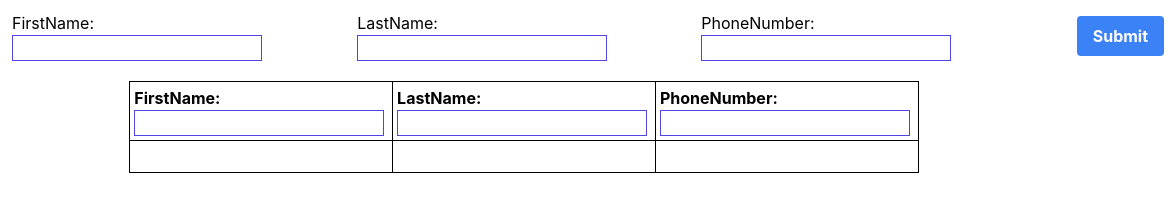
Test: (Components) ContactList › should add a new contact when click Submit
// Set Text to input and submit
Step 1. Type "F Name" into the 1st field with test id "input-FirstName" → [137, 48], box left=12, top=35, right=262, bottom=61
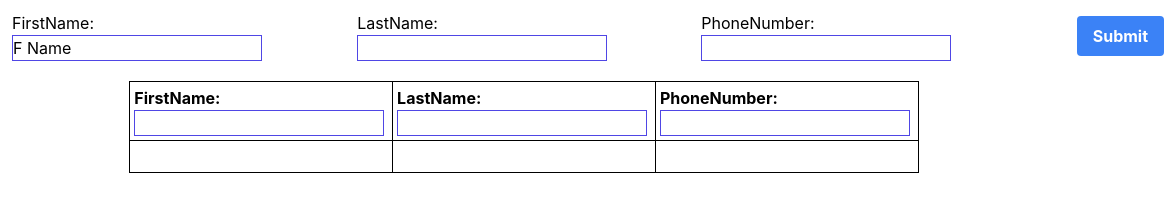
Step 2. Type "L Name" into the 1st field with test id "input-LastName" → [482, 48], box left=357, top=35, right=607, bottom=61
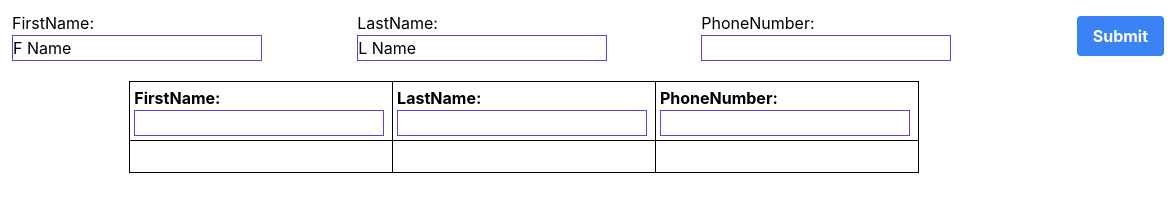
Step 3. Type "111111" into the 1st number field with test id "input-PhoneNumber" → [826, 48], box left=701, top=35, right=951, bottom=61
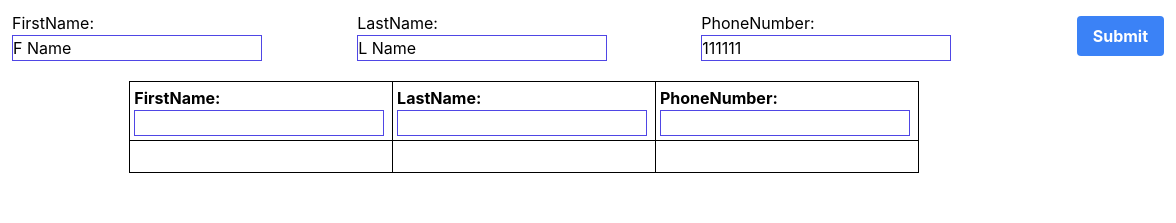
Step 4. Click the button with test id "button-submit" → [1120, 36], box left=1077, top=16, right=1164, bottom=56
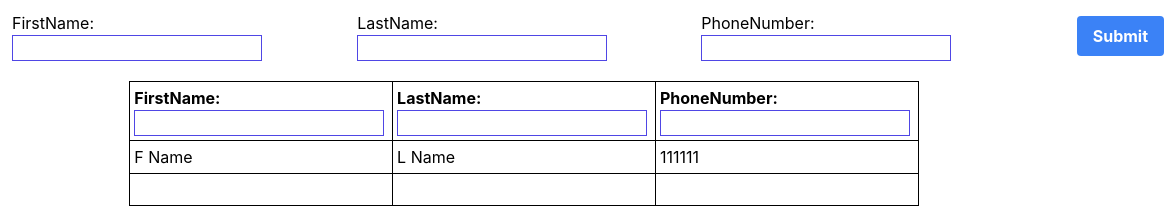
Now the number of rows with test id "table-item" is 1, box left=130, top=140, right=918, bottom=174
